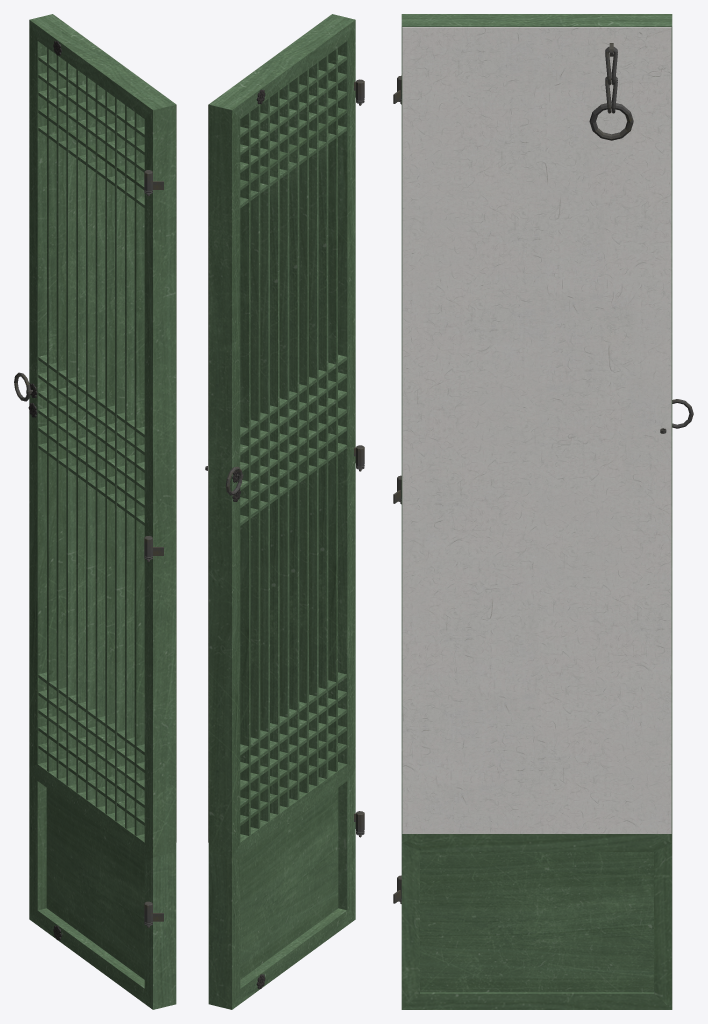
File: SM_Door03A.fbx
3 renders of one model, left to right at view 1: azimuth 30°, elevation 25°; view 2: azimuth 150°, elevation 25°; view 3: azimuth 270°, elevation 25°, orthographic. The views are drawn at different scales.
Parts seen in each view (by area): view 1: SM_Door03A; view 2: SM_Door03A; view 3: SM_Door03A.
Boxes of the visible parts, left/top/right/bottom form: SM_Door03A: left=14, top=14, right=176, bottom=1009; SM_Door03A: left=205, top=14, right=364, bottom=1009; SM_Door03A: left=393, top=14, right=693, bottom=1009.
Bounding box in the file's own units: 10.85 × 54.51 × 197.
